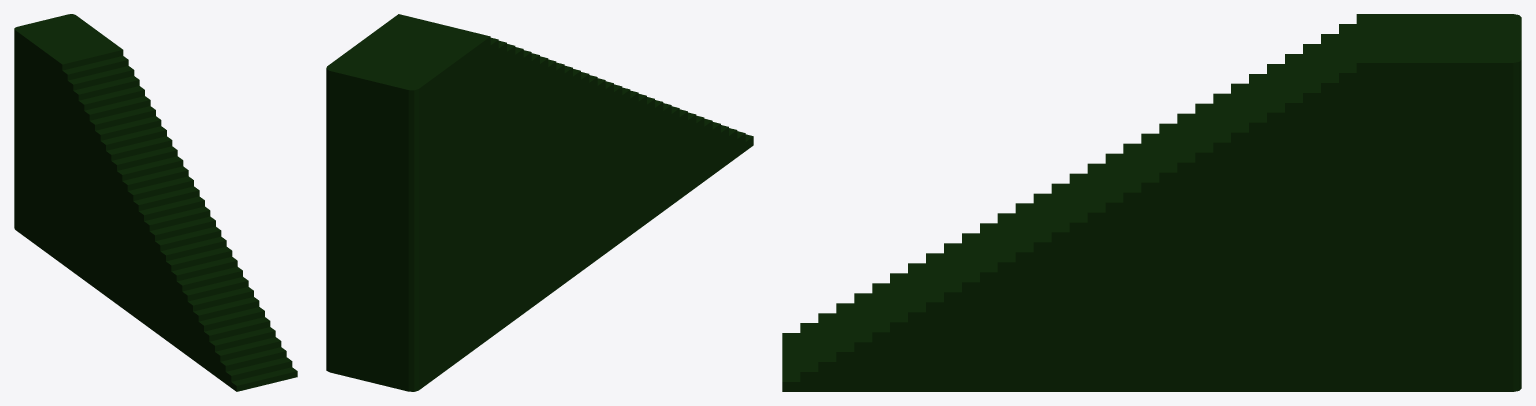
Rendered from stairs1.fbx.
The picture shows the model from 3 angles, left to right: view 1: azimuth 30°, elevation 25°; view 2: azimuth 150°, elevation 25°; view 3: azimuth 270°, elevation 25°; orthographic projection. The views are drawn at different scales.
Parts seen in each view (by area): view 1: stairs1; view 2: stairs1; view 3: stairs1.
Boxes of the visible parts, <box> form: stairs1: <box>14,14,297,391</box>; stairs1: <box>326,14,753,391</box>; stairs1: <box>782,14,1521,391</box>.
Size of the model in its own units: 1.57 by 4.91 by 10.
